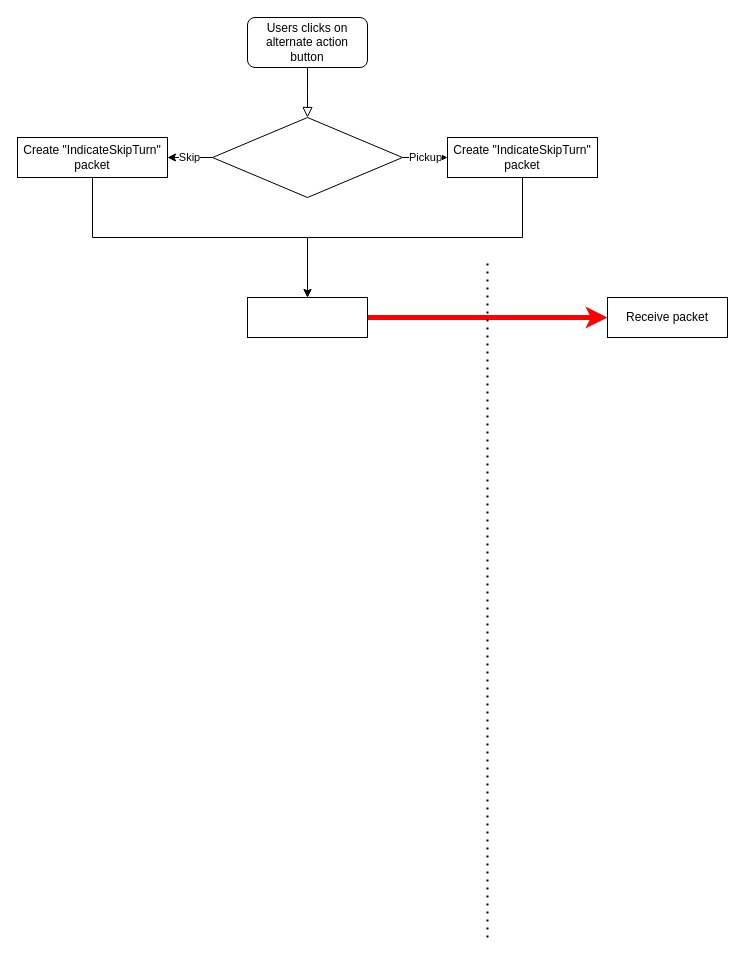
This 745x957 diagram has some shape labels left out. The shapes that lost their labels are listed below. From the top down, each one's centre as x and y in pixels, then its label:
At pixel 307 157: "Skipping turn or picking up?".
At pixel 307 317: "Send packet to server".
